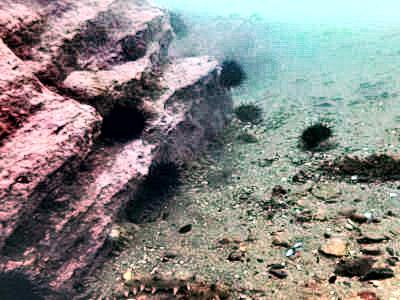urchin: (123, 157, 179, 225), (99, 100, 145, 144), (300, 119, 333, 150), (5, 264, 36, 295), (215, 59, 245, 86)
